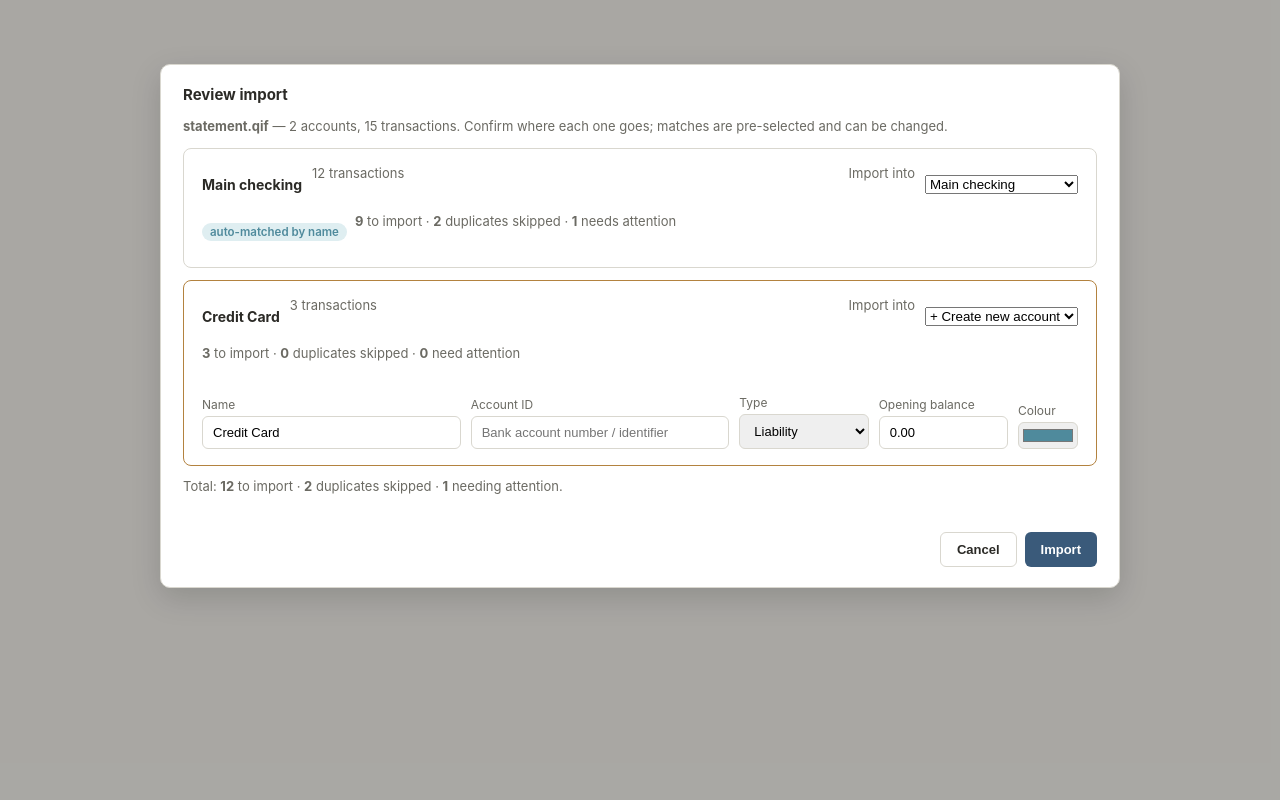
Test case: ImportReviewModal › lets the user override a match and asks the parent to recompute the preview
The image size is (1280, 800).
Select "Visa" in the dropdown named "Import Main checking into": (1002, 184) [925, 174, 1078, 194]
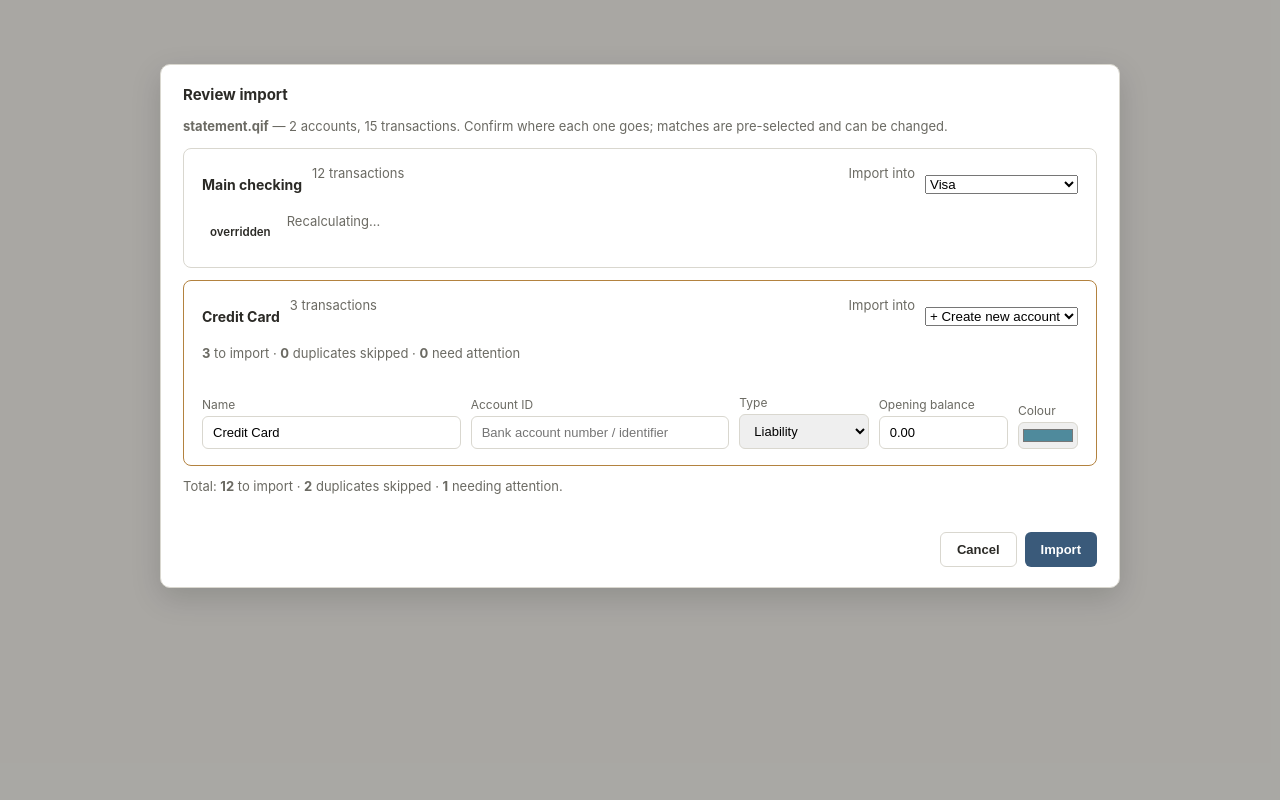
expect the text "overridden" is shown: met, box [210, 225, 271, 239]
expect the text "Recalculating…" is shown: met, box [287, 213, 380, 229]
